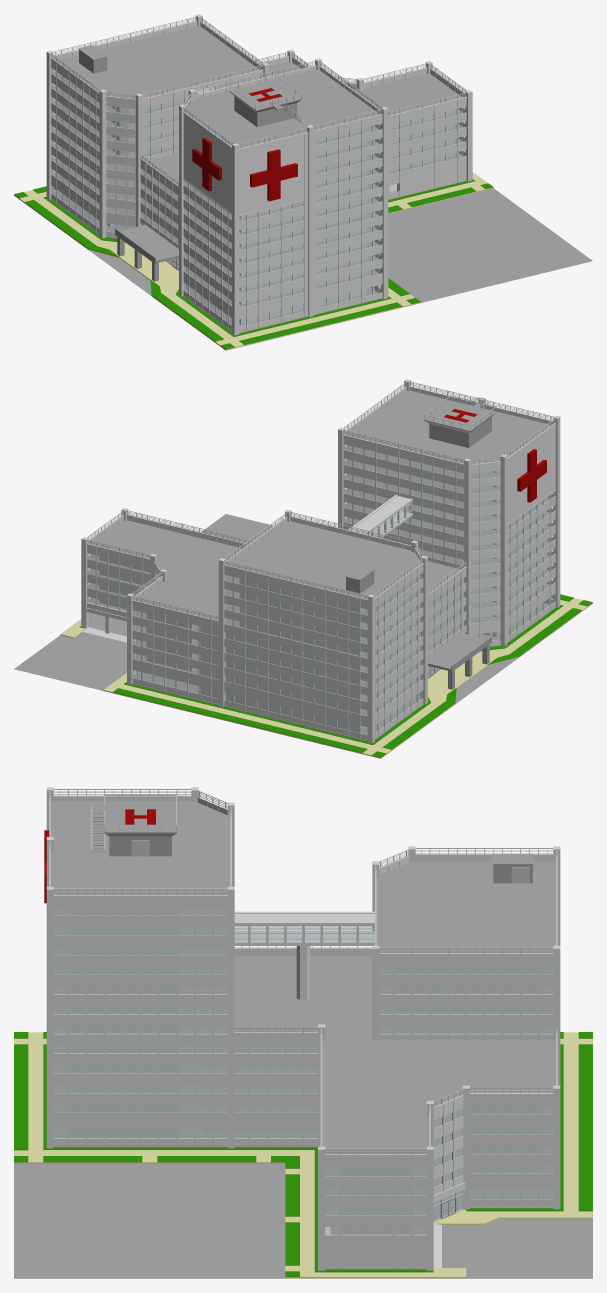
File: Hospital_8x8.fbx
3 renders of one model, top to bottom at view 1: azimuth 30°, elevation 25°; view 2: azimuth 150°, elevation 25°; view 3: azimuth 270°, elevation 25°, orthographic. The views are drawn at different scales.
Parts seen in each view (by area): view 1: Main_Walls, Roads, Small_Pillars, Rooftops, Inner_Floors, GlassWindows, Pillars_Large, Internal_Walls, Sidewalks, Rails, Grasses, Reds (+4 smaller); view 2: Main_Walls, Inner_Floors, GlassWindows, Small_Pillars, Rooftops, Pillars_Large, Internal_Walls, Roads, Rails, Sidewalks, Grasses, Helipad (+6 smaller); view 3: Main_Walls, Inner_Floors, Roads, GlassWindows, Rooftops, Internal_Walls, Small_Pillars, Sidewalks, Pillars_Large, Grasses, Rails, Helipad (+6 smaller).
Part boxes in pixels (left/top/right/bottom): Main_Walls: left=51, top=22, right=466, bottom=332; Roads: left=89, top=188, right=592, bottom=302; Small_Pillars: left=50, top=21, right=466, bottom=333; Rooftops: left=57, top=26, right=378, bottom=148; Inner_Floors: left=55, top=62, right=463, bottom=307; GlassWindows: left=52, top=69, right=465, bottom=326; Pillars_Large: left=46, top=14, right=472, bottom=335; Internal_Walls: left=106, top=98, right=454, bottom=324; Sidewalks: left=14, top=172, right=493, bottom=350; Rails: left=51, top=16, right=466, bottom=186; Grasses: left=14, top=179, right=493, bottom=349; Reds: left=192, top=88, right=297, bottom=201; Main_Walls: left=87, top=388, right=555, bottom=740; Inner_Floors: left=90, top=446, right=551, bottom=715; GlassWindows: left=88, top=445, right=554, bottom=734; Small_Pillars: left=87, top=386, right=556, bottom=741; Rooftops: left=228, top=390, right=551, bottom=598; Pillars_Large: left=81, top=379, right=560, bottom=743; Internal_Walls: left=99, top=470, right=535, bottom=733; Roads: left=14, top=514, right=517, bottom=703; Rails: left=87, top=381, right=555, bottom=620; Sidewalks: left=60, top=597, right=592, bottom=758; Grasses: left=80, top=594, right=592, bottom=757; Helipad: left=424, top=400, right=496, bottom=447; Main_Walls: left=53, top=798, right=553, bottom=1268; Inner_Floors: left=53, top=908, right=555, bottom=1234; Roads: left=14, top=1163, right=592, bottom=1278; GlassWindows: left=54, top=908, right=552, bottom=1234; Rooftops: left=51, top=801, right=555, bottom=953; Internal_Walls: left=71, top=908, right=543, bottom=1234; Small_Pillars: left=49, top=795, right=557, bottom=1269; Sidewalks: left=14, top=1032, right=592, bottom=1278; Pillars_Large: left=46, top=787, right=560, bottom=1270; Grasses: left=14, top=1032, right=592, bottom=1276; Rails: left=49, top=789, right=557, bottom=1154; Helipad: left=104, top=801, right=176, bottom=856.
Bounding box in the file's own units: 320 × 172 × 320.
